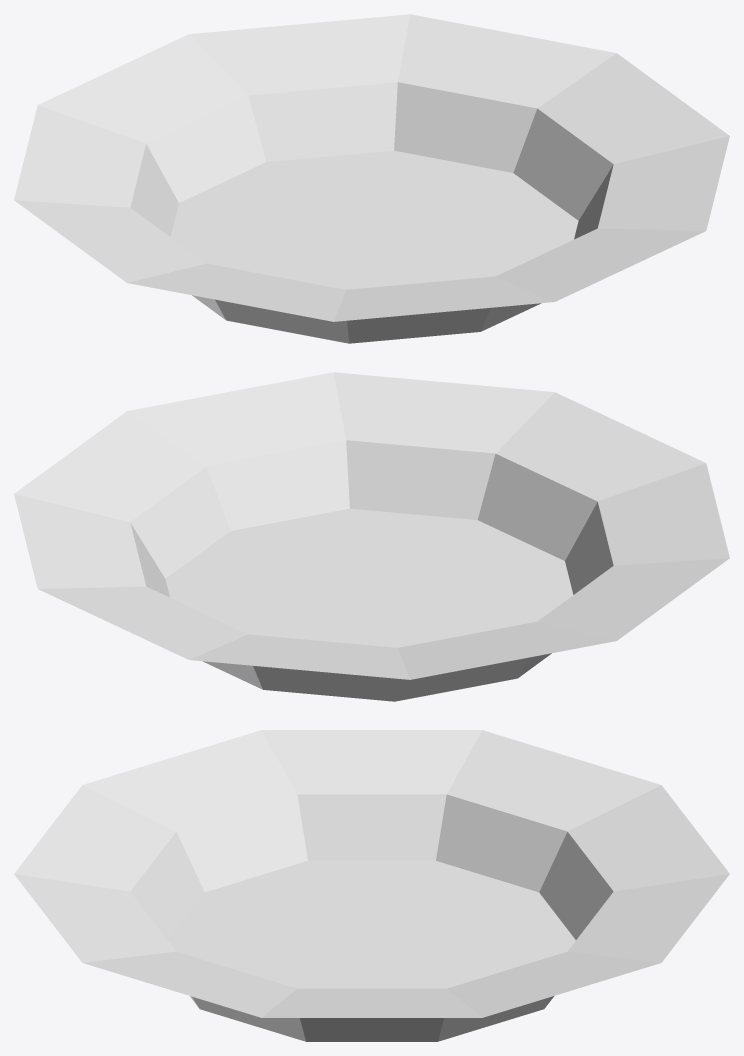
The model's file is Plate Overlay.obj.
3 views of the same model, one above another, from view 1: azimuth 30°, elevation 25°; view 2: azimuth 150°, elevation 25°; view 3: azimuth 270°, elevation 25° (orthographic). The views are drawn at different scales.
Parts seen in each view (by area): view 1: Plate_Overlay; view 2: Plate_Overlay; view 3: Plate_Overlay.
Boxes of the visible parts, bbox=[...] form: Plate_Overlay: bbox=[14, 14, 729, 343]; Plate_Overlay: bbox=[14, 372, 729, 701]; Plate_Overlay: bbox=[14, 730, 729, 1041].
Size of the model in its own units: 0.2698 by 0.036 by 0.2837.
